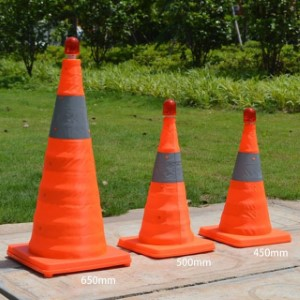traffic cone: (6, 36, 131, 279), (117, 97, 216, 260), (197, 106, 292, 248)
